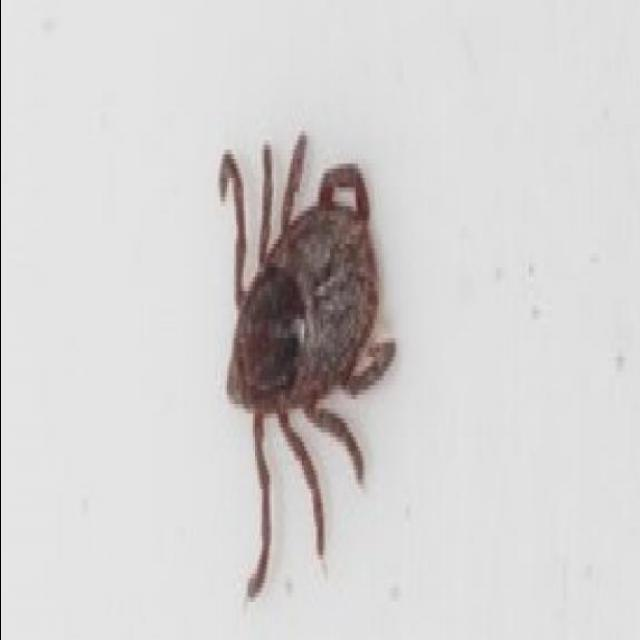Rhipicephalus Sanguineus-F: (217, 131, 399, 597)
